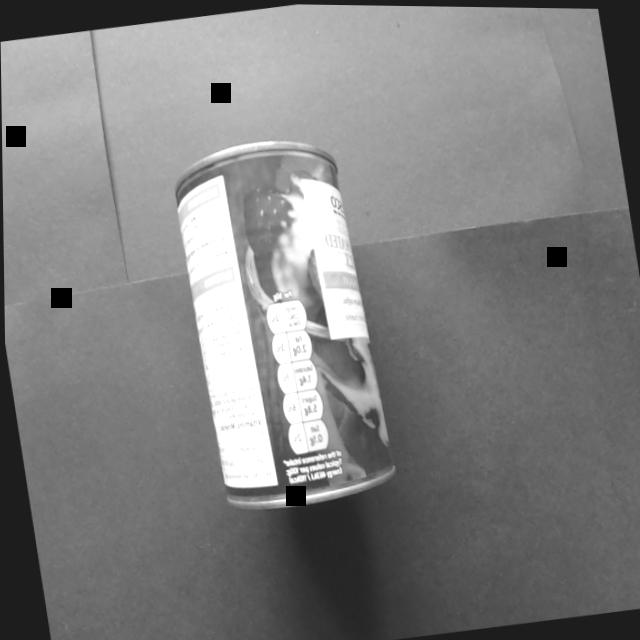Buttermilk: (155, 114, 408, 537)
